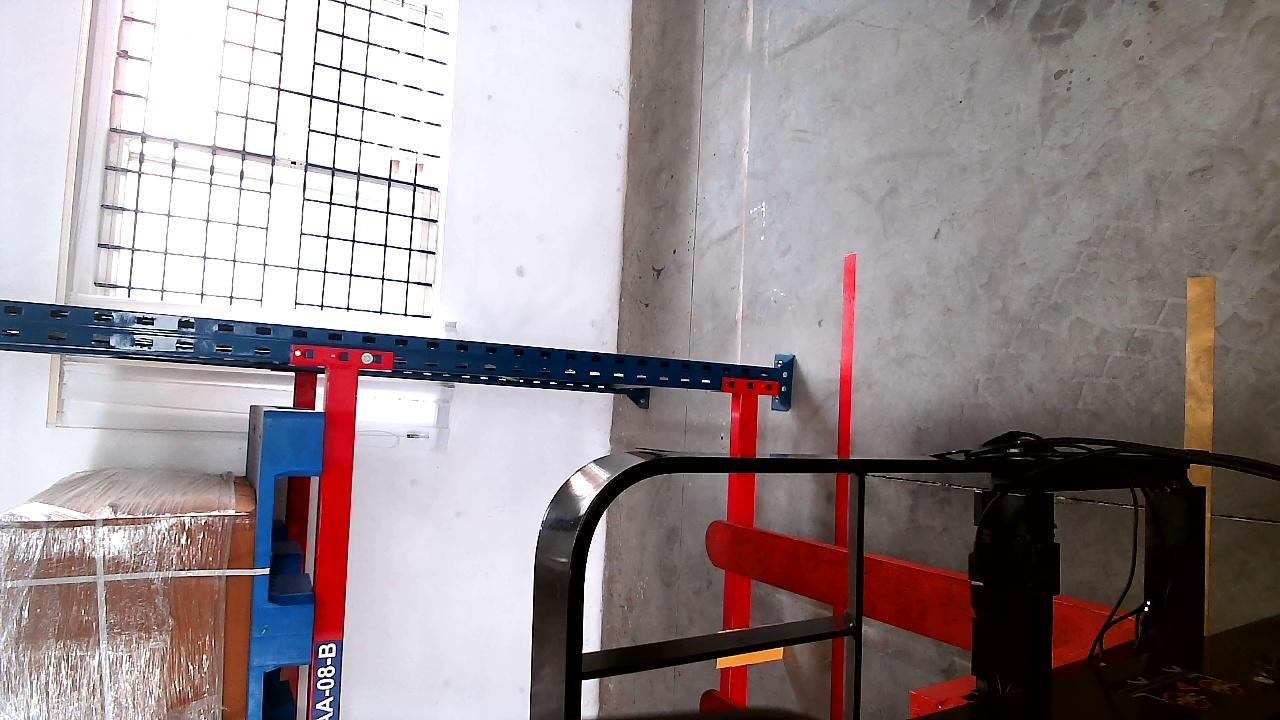red_line: (833, 254, 857, 550)
yellow_line: (1183, 269, 1220, 672)
